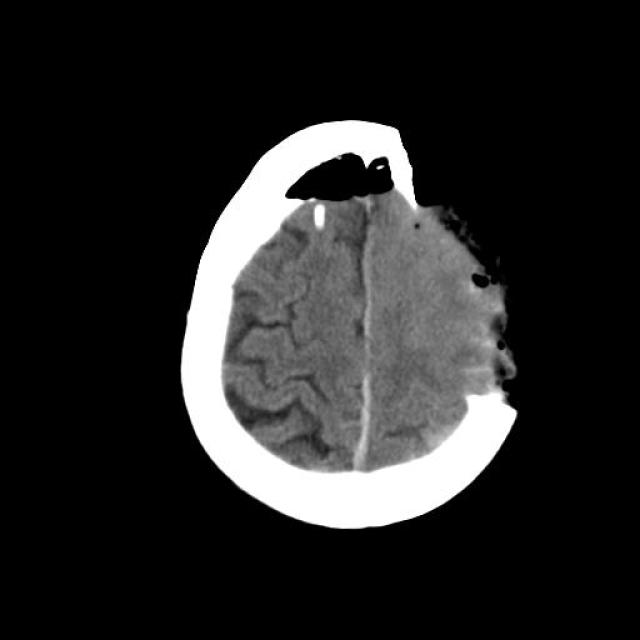Subdural: (321, 360, 434, 502)
